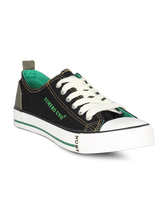shoes: (7, 56, 160, 157)
